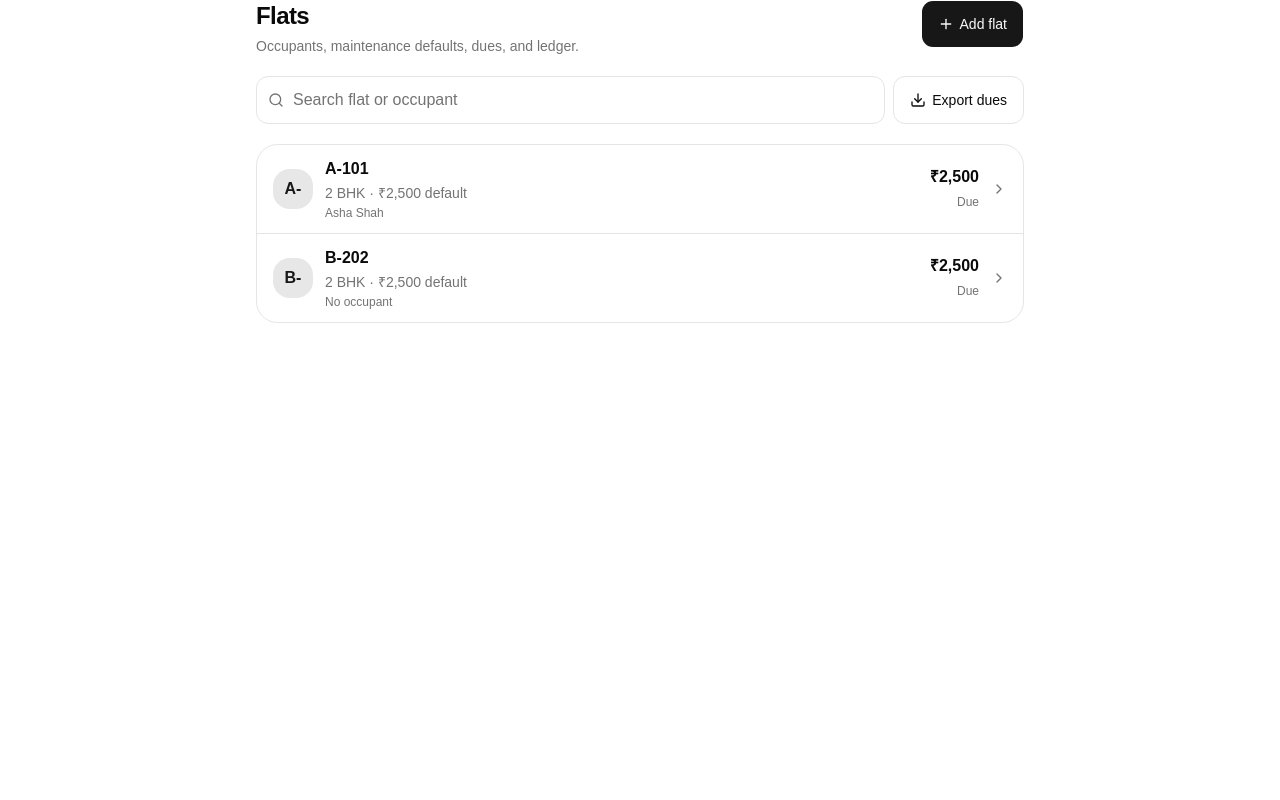
Test: FlatsPage — searchable setup and contextual detail › searches flats and opens occupants, dues, and ledger from the full row
This screenshot has width=1280, height=800.
Type "A-101" into the search field named "Search flats" at (571, 100), box [256, 76, 885, 124]
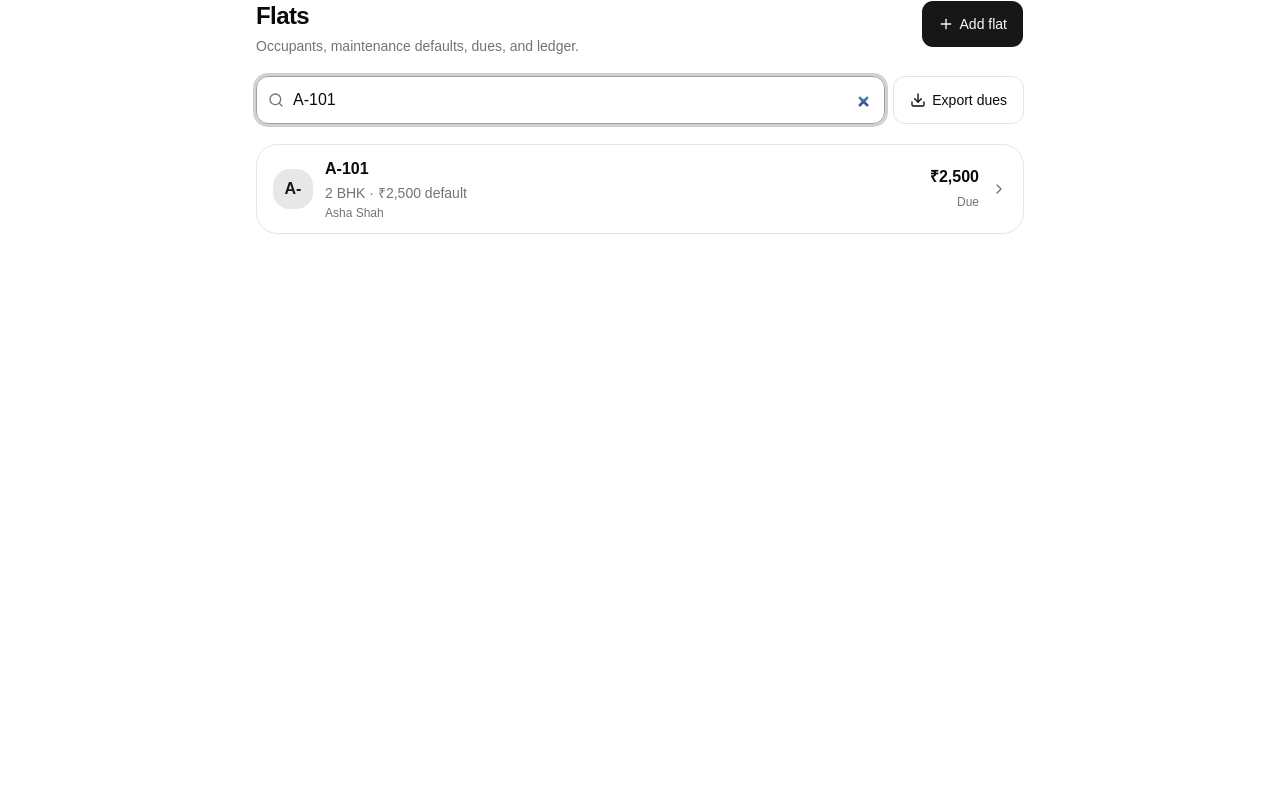
Expected: the button "B-202" is gone
Click the button "A- A-101 2 BHK · ₹2,500 default Asha Shah ₹2,500 Due" at (293, 189), box [257, 145, 1023, 233]
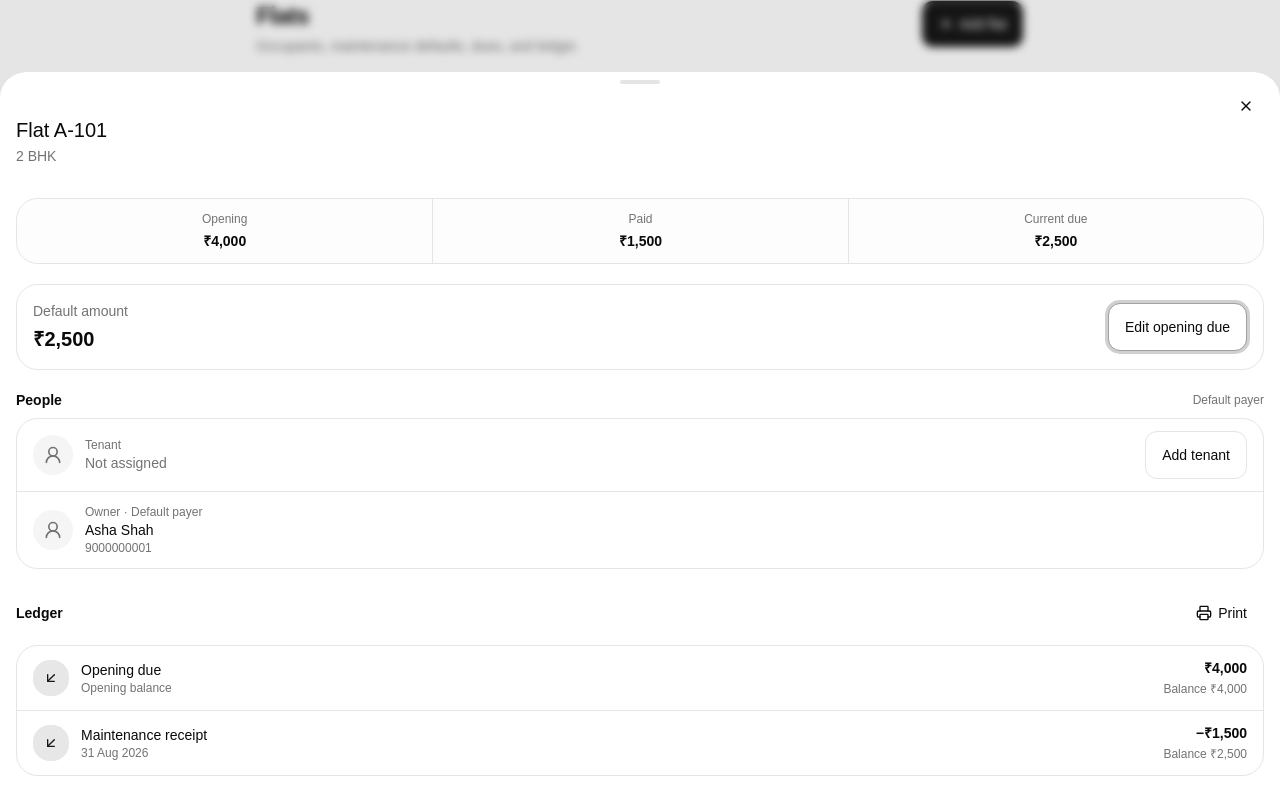
Expected: the text "Asha Shah" is shown, [85, 522, 154, 538]
Expected: the text "Default payer" is shown, [1193, 392, 1264, 408]
Expected: the text "₹2,500" below "Current due" is shown, [1034, 233, 1077, 249]
